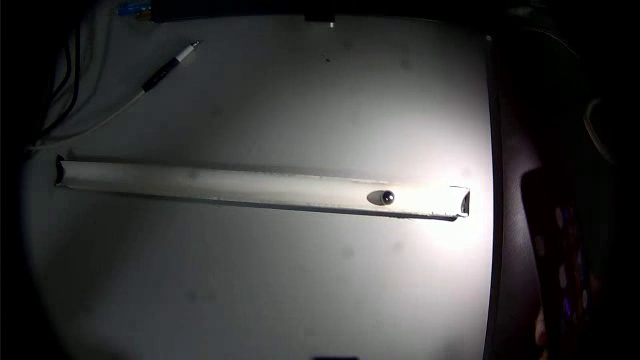gangzhu: (387, 192, 419, 225)
